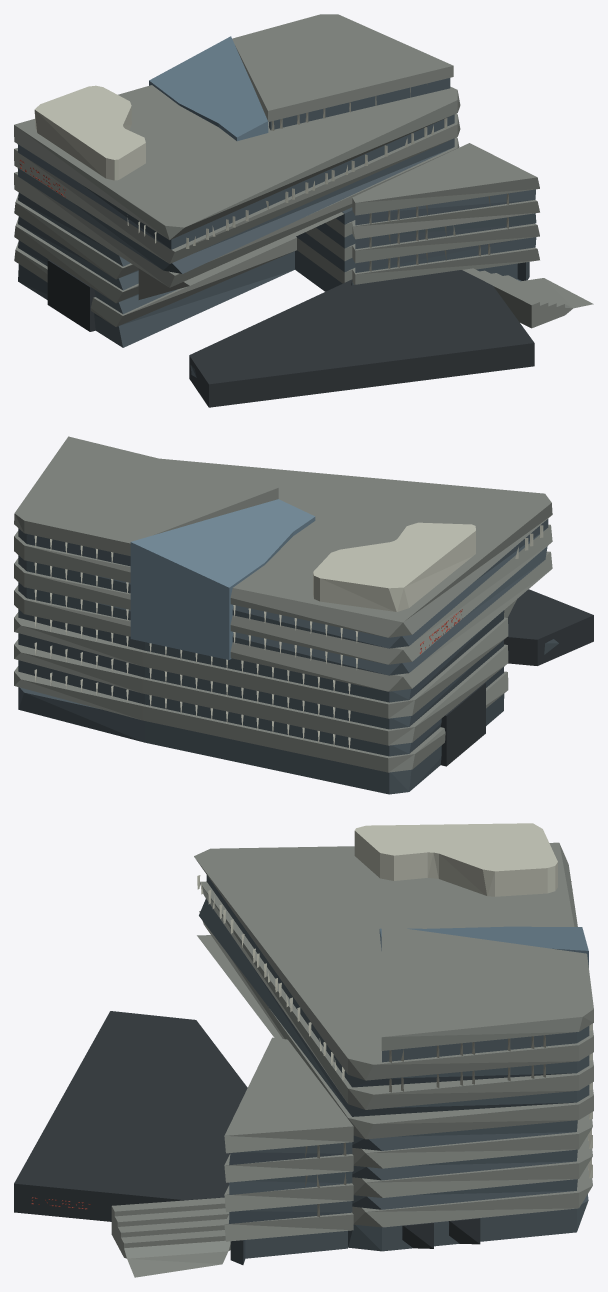
Rendered from sint-nicolaaslyceum.lod1.glb.
3 views of the same model, one above another, from view 1: azimuth 30°, elevation 25°; view 2: azimuth 150°, elevation 25°; view 3: azimuth 270°, elevation 25° (orthographic). The views are drawn at different scales.
Parts seen in each view (by area): view 1: sint-nicolaaslyceum; view 2: sint-nicolaaslyceum; view 3: sint-nicolaaslyceum.
Boxes of the visible parts, x1,y1,x2,y2 form: sint-nicolaaslyceum: (14,14,593,407); sint-nicolaaslyceum: (14,436,593,794); sint-nicolaaslyceum: (14,823,593,1277).
Bounding box in the file's own units: 62.94 × 25.8 × 62.
